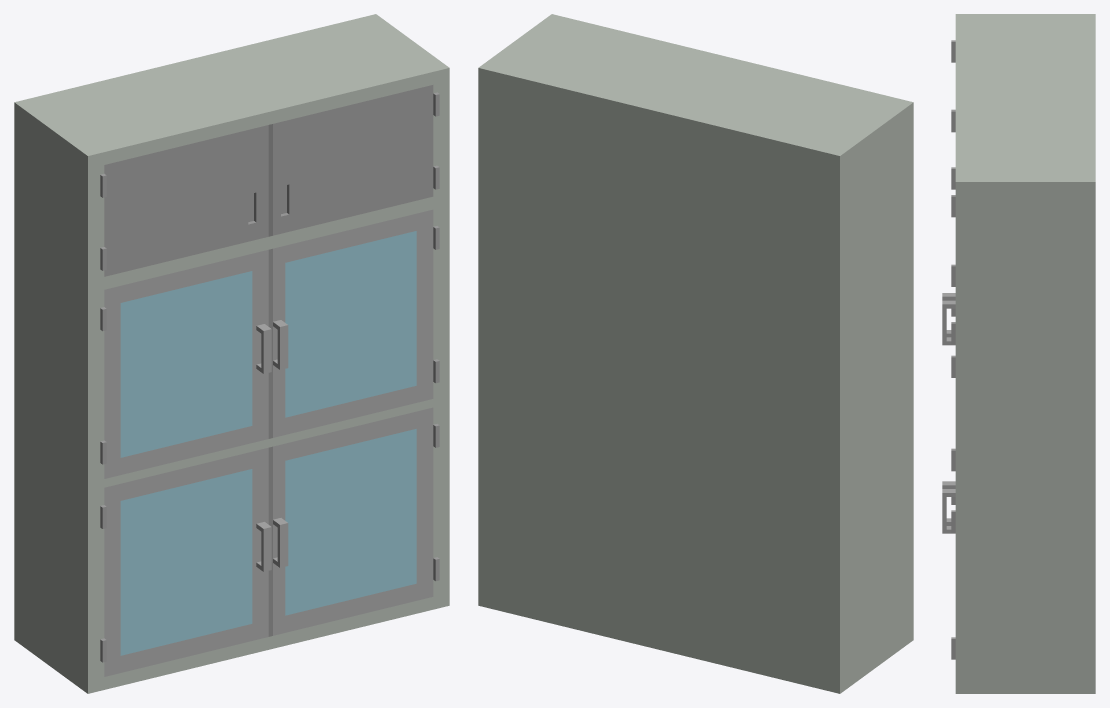
The model's file is Operating tool shelf2.fbx.
The picture shows the model from 3 angles, left to right: view 1: azimuth 30°, elevation 25°; view 2: azimuth 150°, elevation 25°; view 3: azimuth 270°, elevation 25°; orthographic projection. The views are drawn at different scales.
Parts seen in each view (by area): view 1: Operating tool shelf2.001, Operating tool shelf2.004, Operating tool shelf2.005, Operating tool shelf2.008, Operating tool shelf2, Operating tool shelf2.007, Operating tool shelf2.006, Operating tool shelf2.002, Operating tool shelf2.003; view 2: Operating tool shelf2.001; view 3: Operating tool shelf2.001, Operating tool shelf2.007, Operating tool shelf2.006.
Boxes of the visible parts, left/top/right/bottom form: Operating tool shelf2.001: left=14, top=14, right=449, bottom=693; Operating tool shelf2.004: left=120, top=469, right=252, bottom=655; Operating tool shelf2.005: left=120, top=271, right=252, bottom=457; Operating tool shelf2.008: left=285, top=429, right=416, bottom=615; Operating tool shelf2: left=285, top=231, right=416, bottom=417; Operating tool shelf2.007: left=268, top=209, right=433, bottom=438; Operating tool shelf2.006: left=268, top=407, right=433, bottom=636; Operating tool shelf2.002: left=104, top=447, right=271, bottom=676; Operating tool shelf2.003: left=104, top=250, right=271, bottom=478; Operating tool shelf2.001: left=478, top=14, right=913, bottom=693; Operating tool shelf2.001: left=951, top=14, right=1095, bottom=693; Operating tool shelf2.007: left=942, top=300, right=955, bottom=345; Operating tool shelf2.006: left=942, top=489, right=955, bottom=533.
Bounding box in the file's own units: 880 × 1250 × 340.
